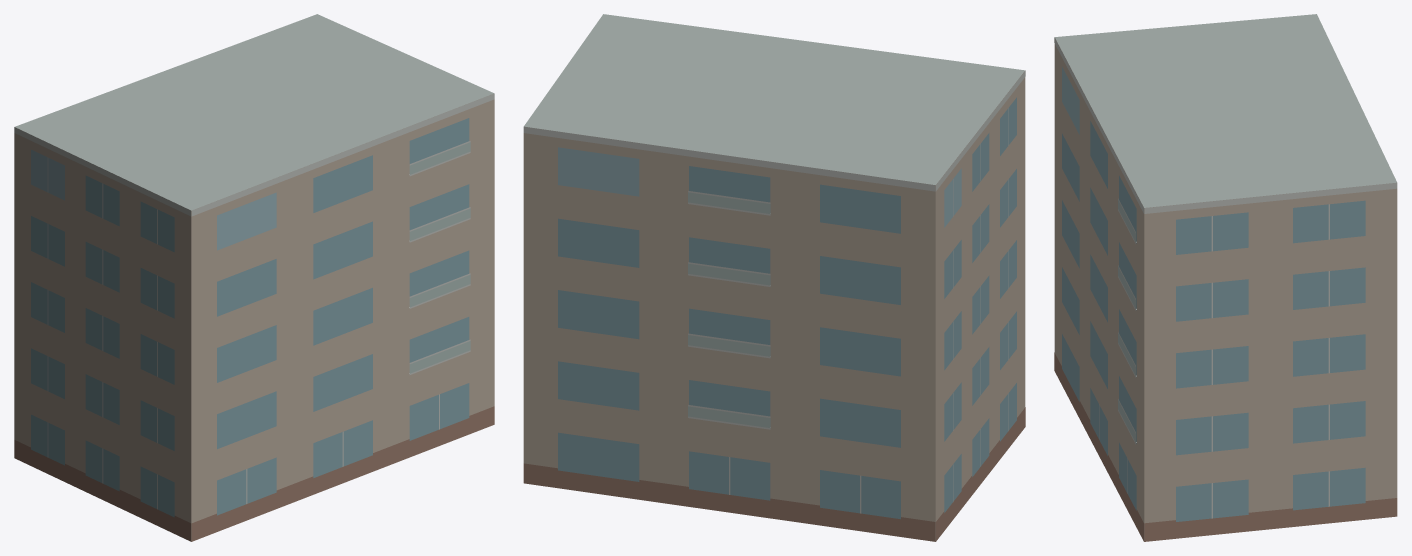
The model's file is survey-upis-32962199.glb.
3 renders of one model, left to right at view 1: azimuth 30°, elevation 25°; view 2: azimuth 150°, elevation 25°; view 3: azimuth 270°, elevation 25°, orthographic. The views are drawn at different scales.
Visible parts, largest first — view 1: survey-upis-32962199.tmp; view 2: survey-upis-32962199.tmp; view 3: survey-upis-32962199.tmp.
Boxes of the visible parts, x1,y1,x2,y2 form: survey-upis-32962199.tmp: (14, 14, 494, 541); survey-upis-32962199.tmp: (523, 14, 1025, 541); survey-upis-32962199.tmp: (1054, 14, 1397, 541).
Size of the model in its own units: 16.83 by 13.5 by 12.57.
